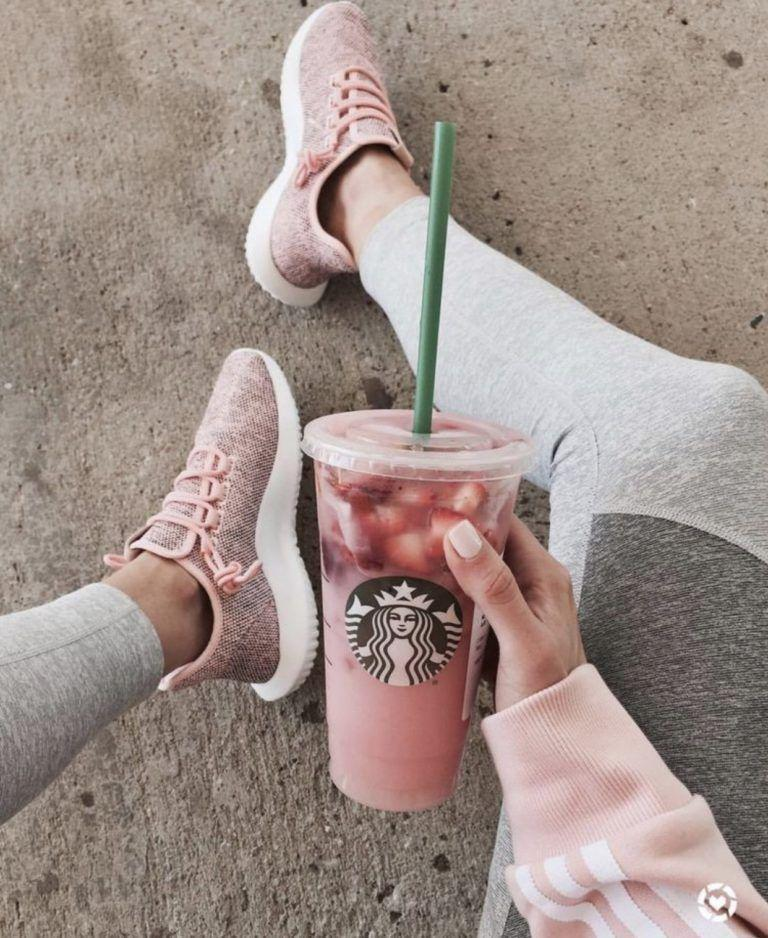cup-disposable: (305, 410, 535, 811)
